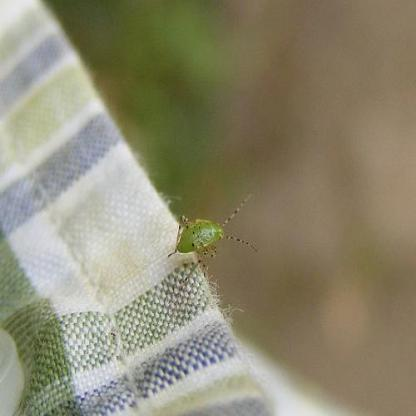aphid: (169, 179, 263, 287)
